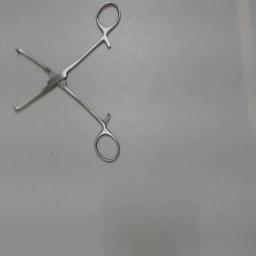Allis Tissue Forceps: (10, 2, 122, 166)
